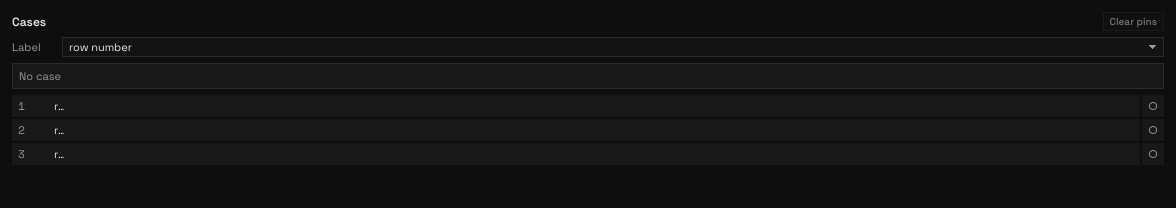
Test: CaseList › uses the configured label variable in rows and inspector
Step 1. Select "species" in the dropdown named "case label variable" → coordinates (613, 47), box [62,37,1164,57]
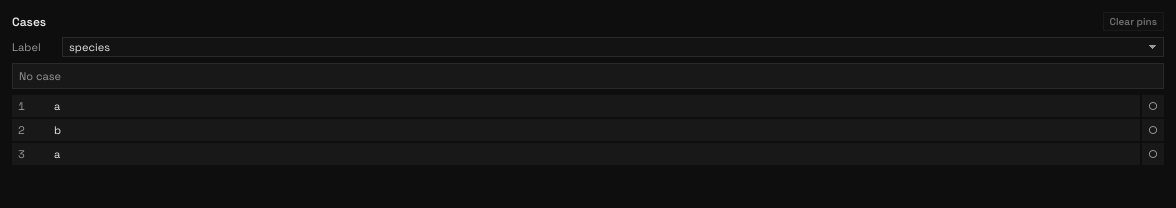
Step 2. Hover over the list item named "case 2" → coordinates (588, 130), box [12,119,1164,141]
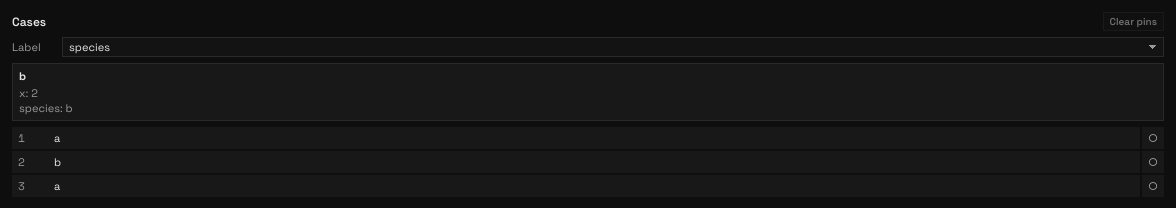
Expected: the button named "case 2" shows "b", [12,151,1140,173]
Expected: the 1st text "b" is shown, [19,69,26,83]
